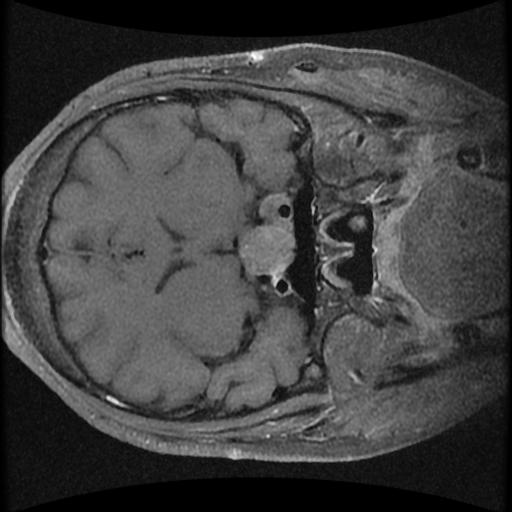pituitary tumour: (240, 220, 295, 275)
